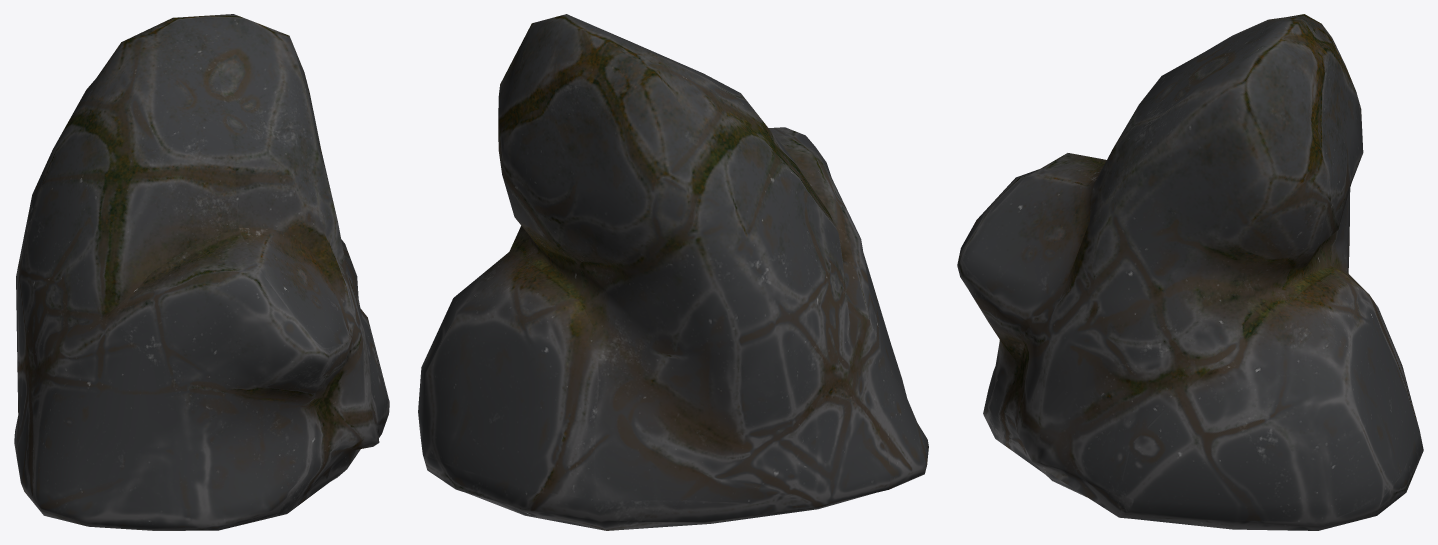
File: rock_01.glb
The picture shows the model from 3 angles, left to right: view 1: azimuth 30°, elevation 25°; view 2: azimuth 150°, elevation 25°; view 3: azimuth 270°, elevation 25°; orthographic projection. The views are drawn at different scales.
Parts seen in each view (by area): view 1: rock4_low; view 2: rock4_low; view 3: rock4_low.
Part boxes in pixels (x1,y1,x2,y2): rock4_low: [14, 14, 389, 530]; rock4_low: [418, 14, 928, 530]; rock4_low: [957, 14, 1423, 530].
Bounding box in the file's own units: 4.72 × 4.84 × 4.72.
1 material, 1 textured.
